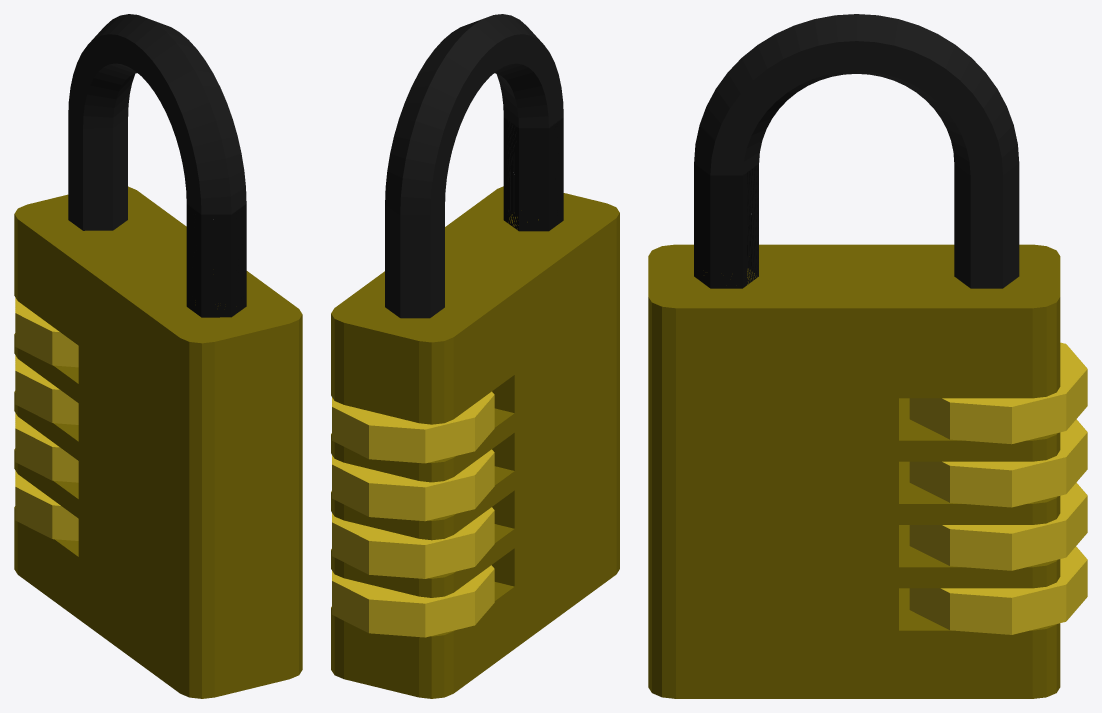
Rendered from padlockcode.fbx.
3 views of the same model, side by side, from view 1: azimuth 30°, elevation 25°; view 2: azimuth 150°, elevation 25°; view 3: azimuth 270°, elevation 25° (orthographic). The views are drawn at different scales.
Parts seen in each view (by area): view 1: Corps, Ancre, Engrenage4, Engrenage3, Engrenage2, Engrenage1; view 2: Corps, Ancre, Engrenage4, Engrenage2, Engrenage1, Engrenage3; view 3: Corps, Ancre, Engrenage1, Engrenage4, Engrenage2, Engrenage3.
Part boxes in pixels (left/top/right/bottom): Corps: left=14, top=186, right=302, bottom=698; Ancre: left=68, top=14, right=246, bottom=317; Engrenage4: left=15, top=470, right=78, bottom=540; Engrenage3: left=15, top=413, right=78, bottom=482; Engrenage2: left=15, top=355, right=78, bottom=424; Engrenage1: left=15, top=297, right=78, bottom=367; Corps: left=331, top=186, right=619, bottom=698; Ancre: left=385, top=14, right=563, bottom=318; Engrenage4: left=332, top=565, right=494, bottom=637; Engrenage2: left=332, top=449, right=494, bottom=521; Engrenage1: left=332, top=391, right=494, bottom=463; Engrenage3: left=332, top=507, right=494, bottom=578; Corps: left=648, top=244, right=1060, bottom=698; Ancre: left=694, top=14, right=1019, bottom=288; Engrenage1: left=909, top=342, right=1087, bottom=444; Engrenage4: left=909, top=546, right=1087, bottom=634; Engrenage2: left=909, top=419, right=1087, bottom=507; Engrenage3: left=909, top=482, right=1087, bottom=570.
Size of the model in its own units: 14.89 by 59.32 by 36.18.
3 materials, 3 textured.
